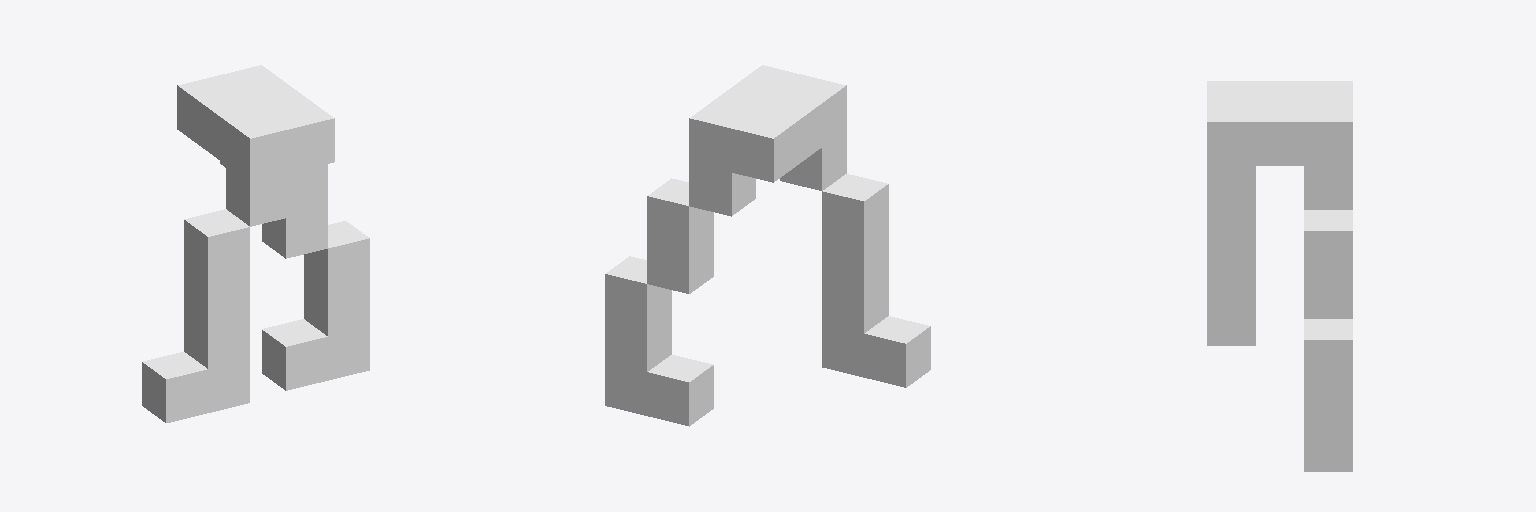
Rendered from thymea-4-torso_walk.obj.
3 views of the same model, side by side, from view 1: azimuth 30°, elevation 25°; view 2: azimuth 150°, elevation 25°; view 3: azimuth 270°, elevation 25° (orthographic).
Parts seen in each view (by area): view 1: torso_walk; view 2: torso_walk; view 3: torso_walk.
Boxes of the visible parts, box(x1,y1,x2,y2) form: torso_walk: box(142, 65, 369, 422); torso_walk: box(605, 65, 930, 426); torso_walk: box(1207, 81, 1352, 471).
Bounding box in the file's own units: 0.6 × 0.7 × 0.3.